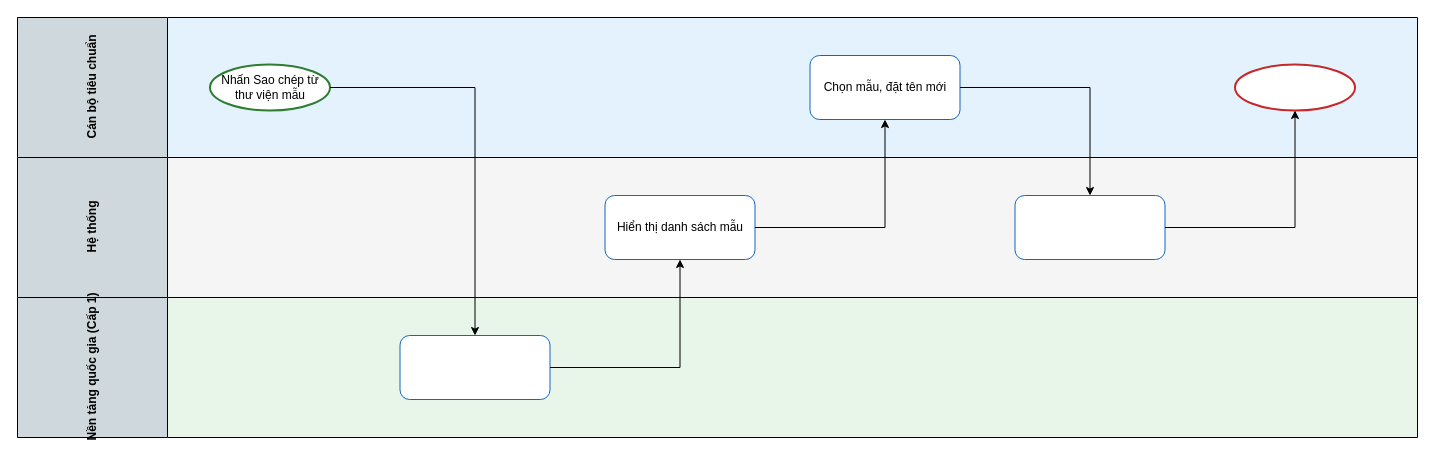
This 1435x459 diagram has some shape labels left out. Each missing label, with the centre of its shape:
Cung cấp thư viện mẫu đang hiệu lực: point (474, 367)
Mở màn hình sửa: point (1295, 87)
Sao chép 7 bước; tạo Nháp; khoá loại sự kiện; ghi nguồn: point (1089, 227)
